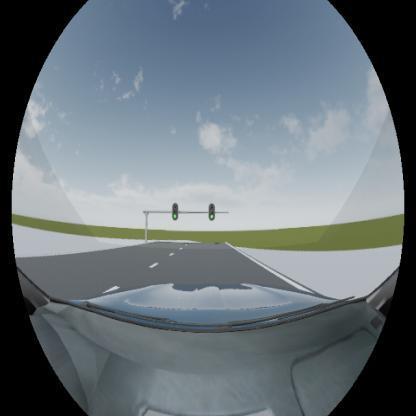Green Light: (172, 203, 179, 220), (209, 204, 215, 220)
